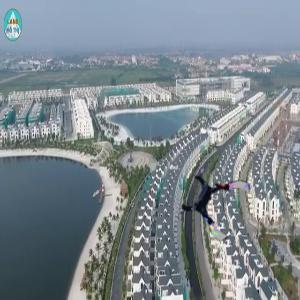drone: (182, 169, 250, 237)
